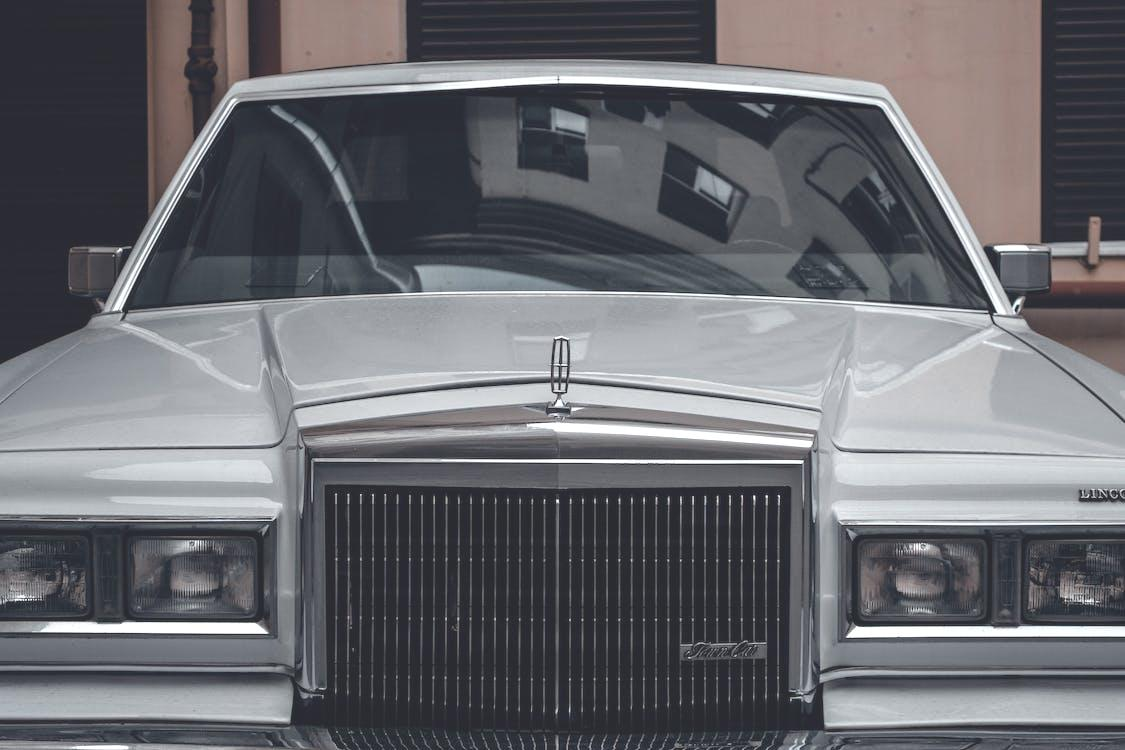lincoln: (546, 330, 582, 411)
